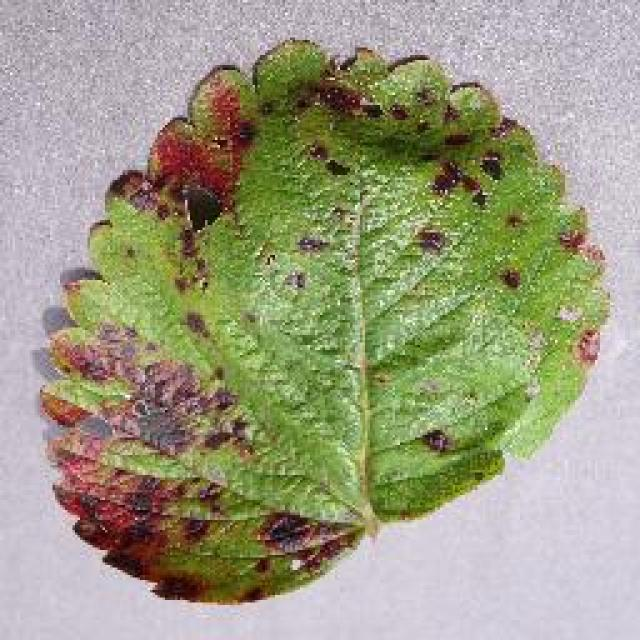Strawberry leaf scorch: (94, 195, 454, 495)
